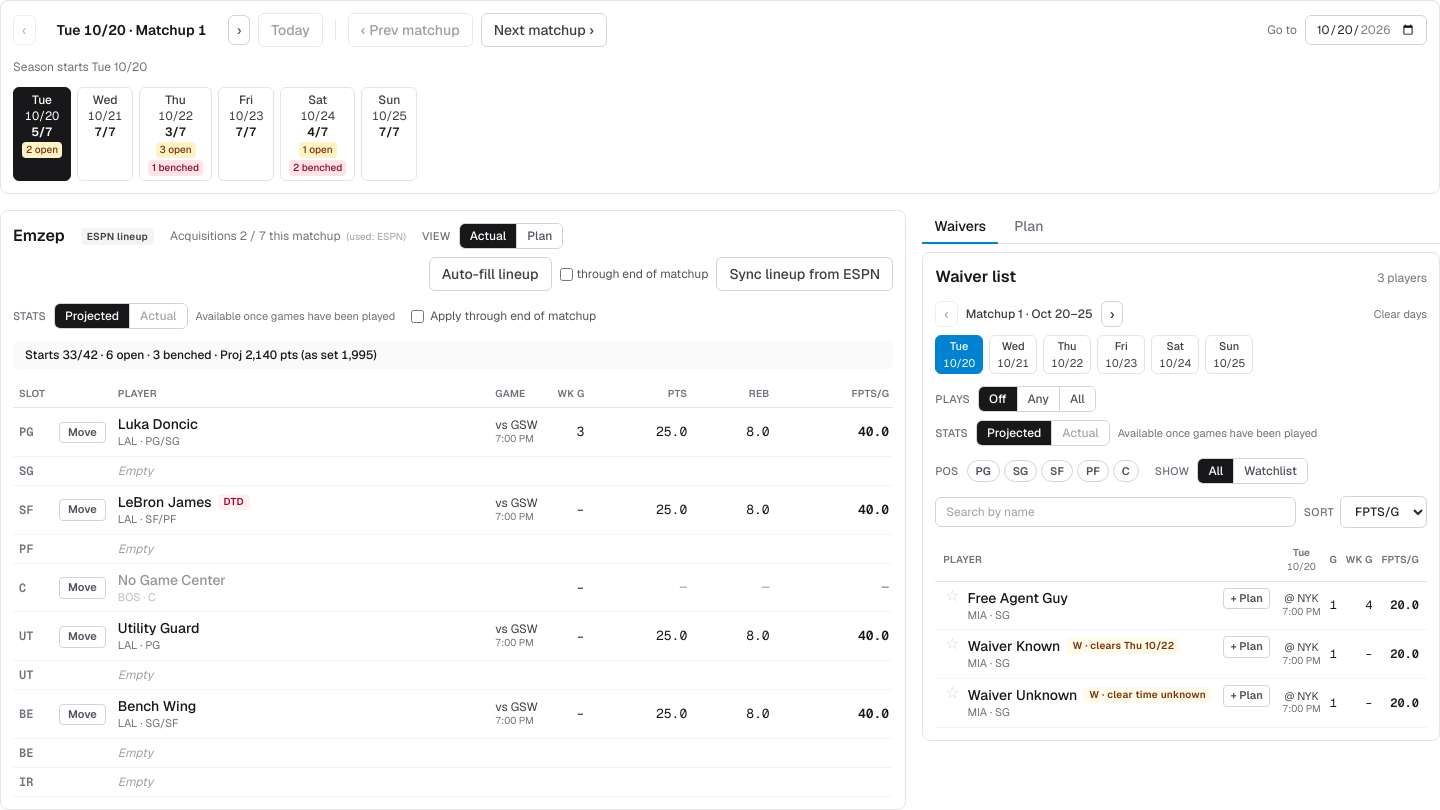
it: the day strip › follows the roster's view: the Plan view reads and shows the plan's starts
The image size is (1440, 810).
Expected: the button "Luka Doncic" is shown, [118,414,198,434]
Expected: the element named "Matchup 1: starts filled by the lineups as set, out of 6 day" is shown, [13,341,893,369]
Click the button with aria-label "Plan view" at (540, 236), box [517,224,562,248]
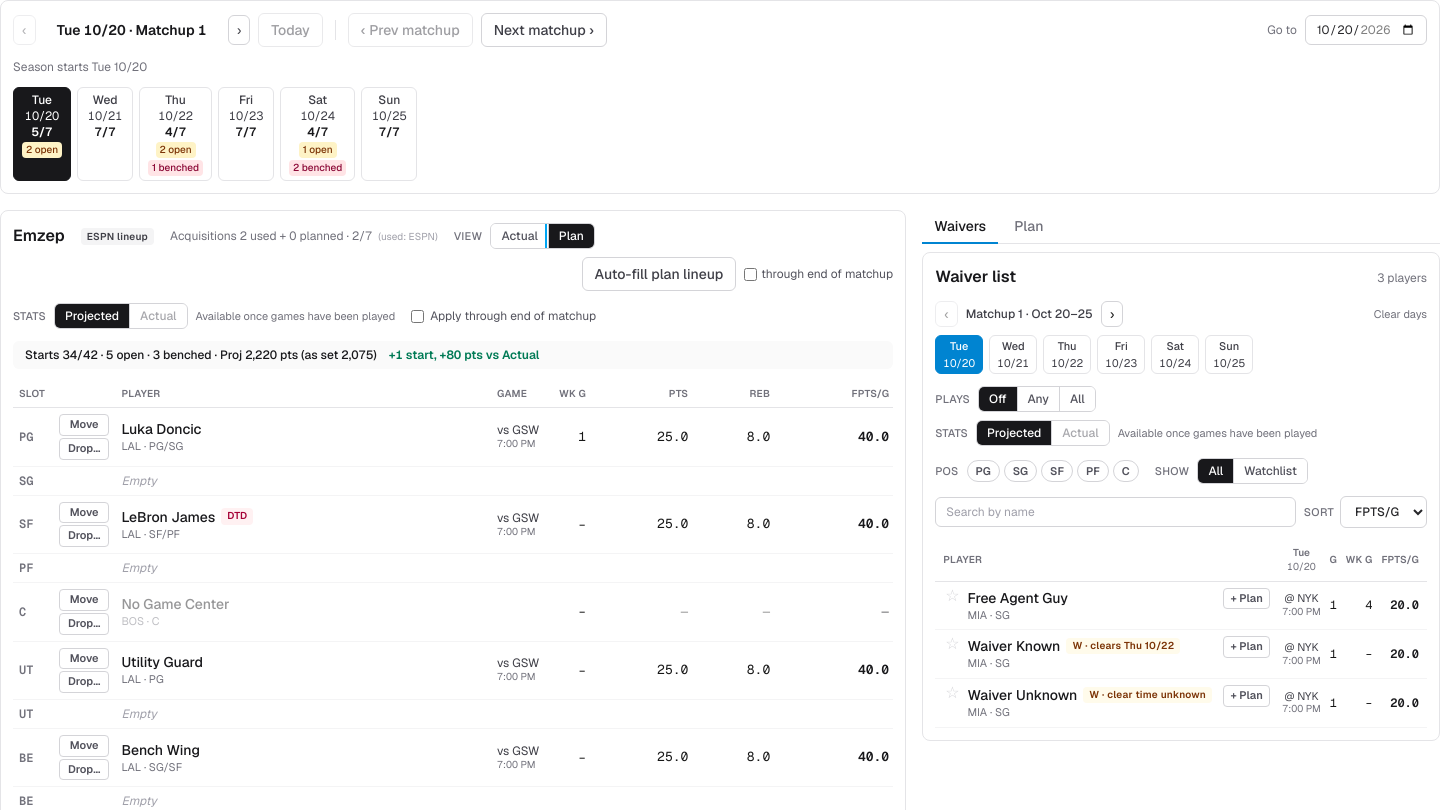
Expected: the 1st text "4/7" is shown, [165,124,186,140]
Now the 2nd text "2 open" is shown, box [156,142,196,158]
